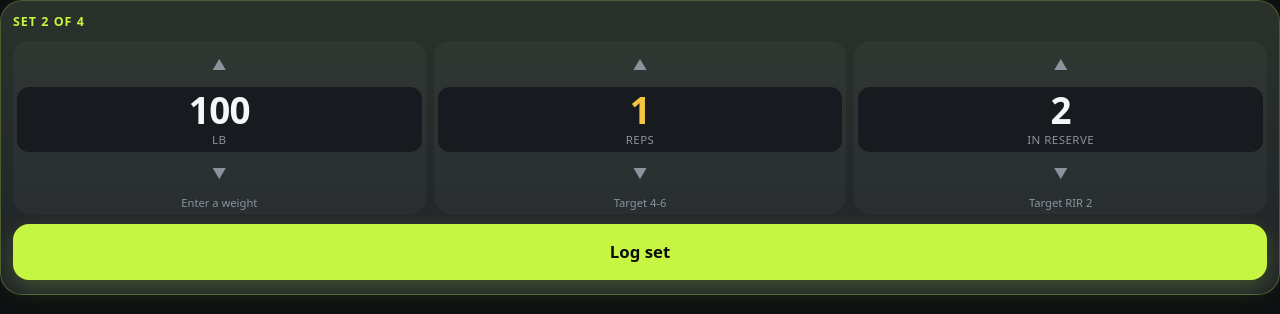
Test case: the log button at zero reps › reads Skip set once the reps reach zero, and Log set again above it
Expected: the button with test id "log-set" reads "Log set", [13, 224, 1267, 280]
Click the button named "Decrease reps".
click(640, 174)  # box [438, 154, 842, 194]
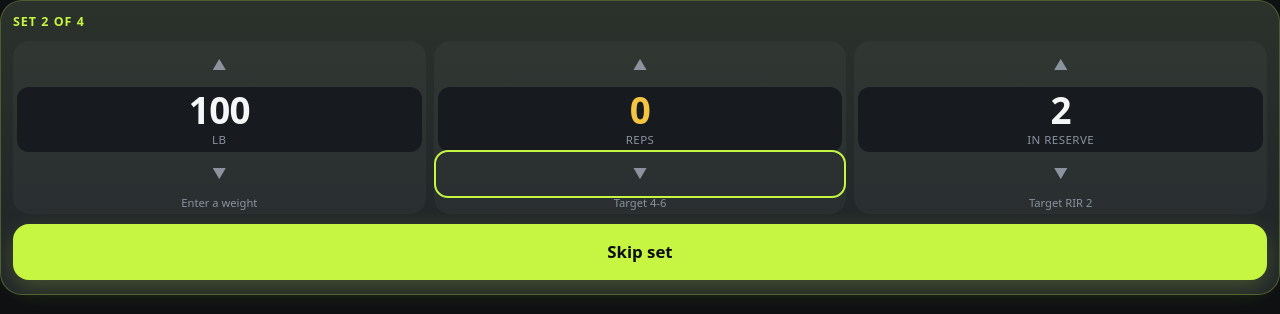
Expected: the button with test id "log-set" reads "Skip set", [13, 224, 1267, 280]
Click the button named "Increase reps".
click(640, 65)  # box [438, 45, 842, 85]
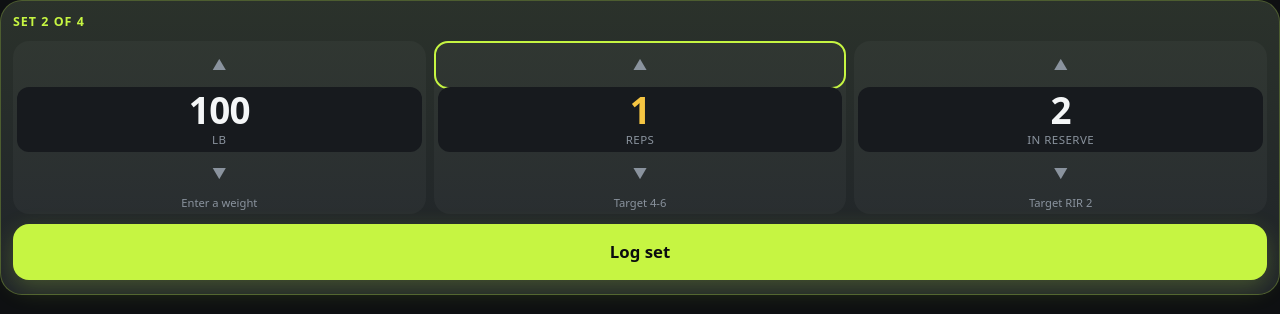
Expected: the button with test id "log-set" reads "Log set", [13, 224, 1267, 280]
